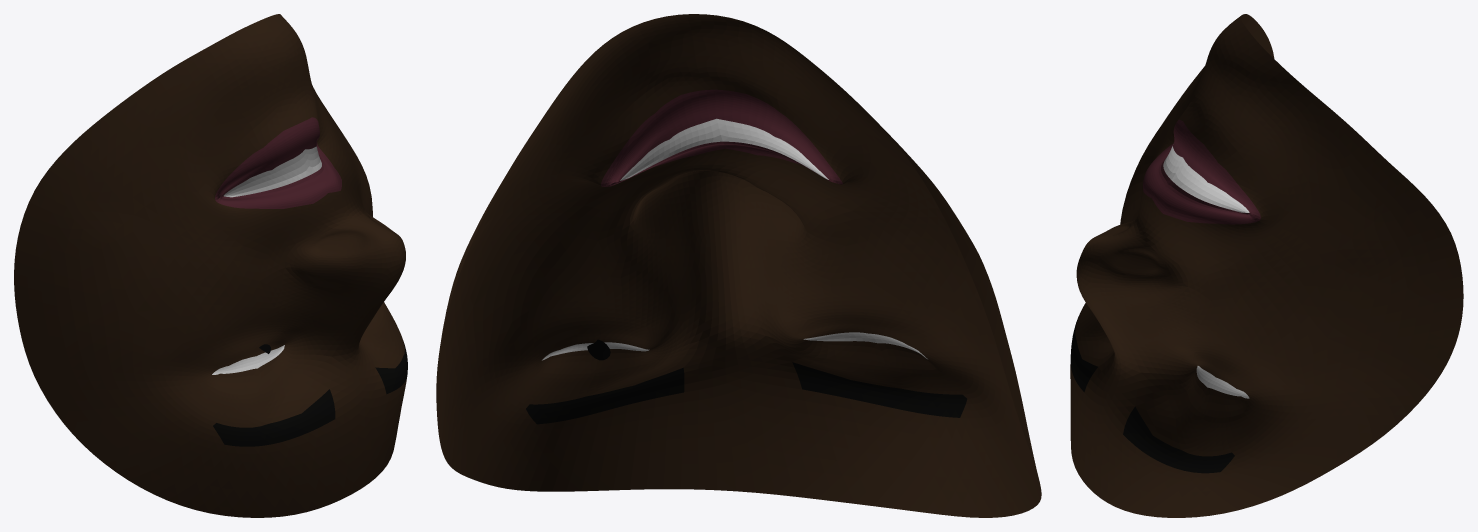
File: frame_00208.obj
The picture shows the model from 3 angles, left to right: view 1: azimuth 30°, elevation 25°; view 2: azimuth 150°, elevation 25°; view 3: azimuth 270°, elevation 25°; orthographic projection. The views are drawn at different scales.
Parts seen in each view (by area): view 1: face_mesh_subdivided; view 2: face_mesh_subdivided; view 3: face_mesh_subdivided.
Boxes of the visible parts, <box> form: face_mesh_subdivided: <box>14,14,407,517</box>; face_mesh_subdivided: <box>436,14,1041,517</box>; face_mesh_subdivided: <box>1070,14,1463,517</box>.
Bounding box in the file's own units: 0.4806 × 0.5147 × 0.4149.
